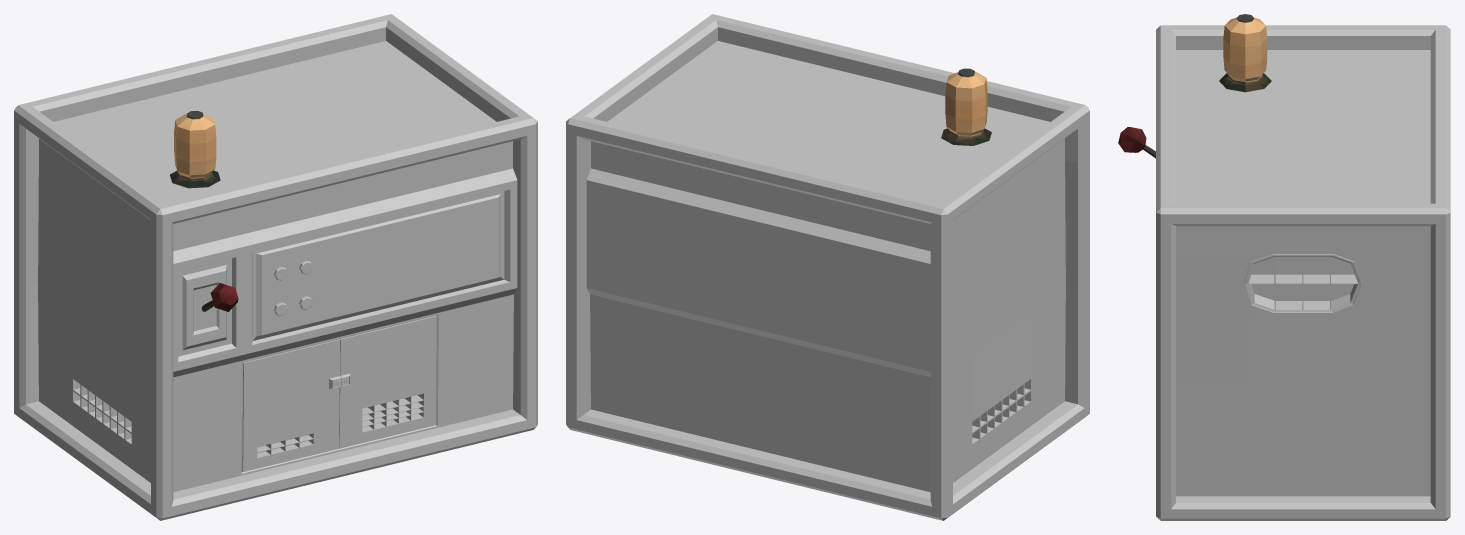
The model's file is IEPRJ2 Lever Generator Thingy.fbx.
3 renders of one model, left to right at view 1: azimuth 30°, elevation 25°; view 2: azimuth 150°, elevation 25°; view 3: azimuth 270°, elevation 25°, orthographic.
Visible parts, largest first — view 1: Generator, Light, Lever; view 2: Generator, Light; view 3: Generator, Light, Lever.
Part boxes in pixels (x1,y1,x2,y2): Generator: (14, 14, 537, 520); Light: (170, 110, 220, 188); Lever: (201, 283, 238, 311); Generator: (566, 14, 1089, 520); Light: (941, 68, 991, 145); Generator: (1156, 25, 1450, 520); Light: (1219, 14, 1271, 92); Lever: (1118, 127, 1155, 158).
Size of the model in its own units: 866 by 774 by 651.
